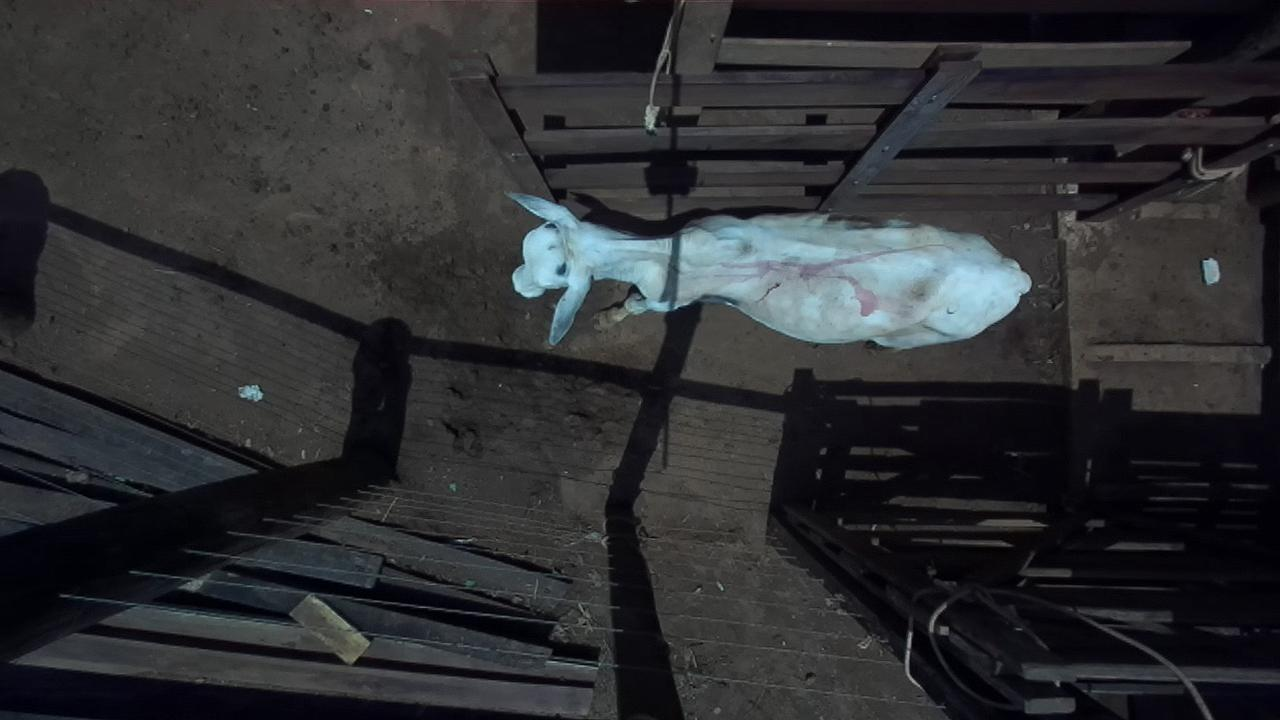cattle: (503, 188, 1033, 352)
